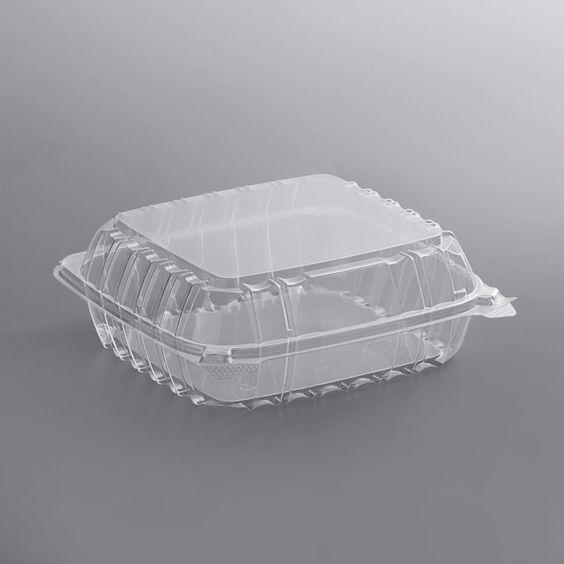PS: (53, 173, 517, 412)
